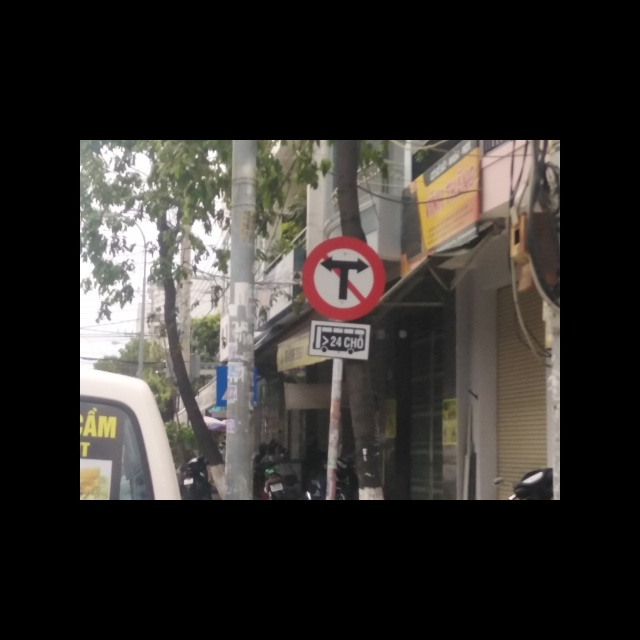Cấm rẽ trái và rẽ phải: (301, 235, 386, 322)
